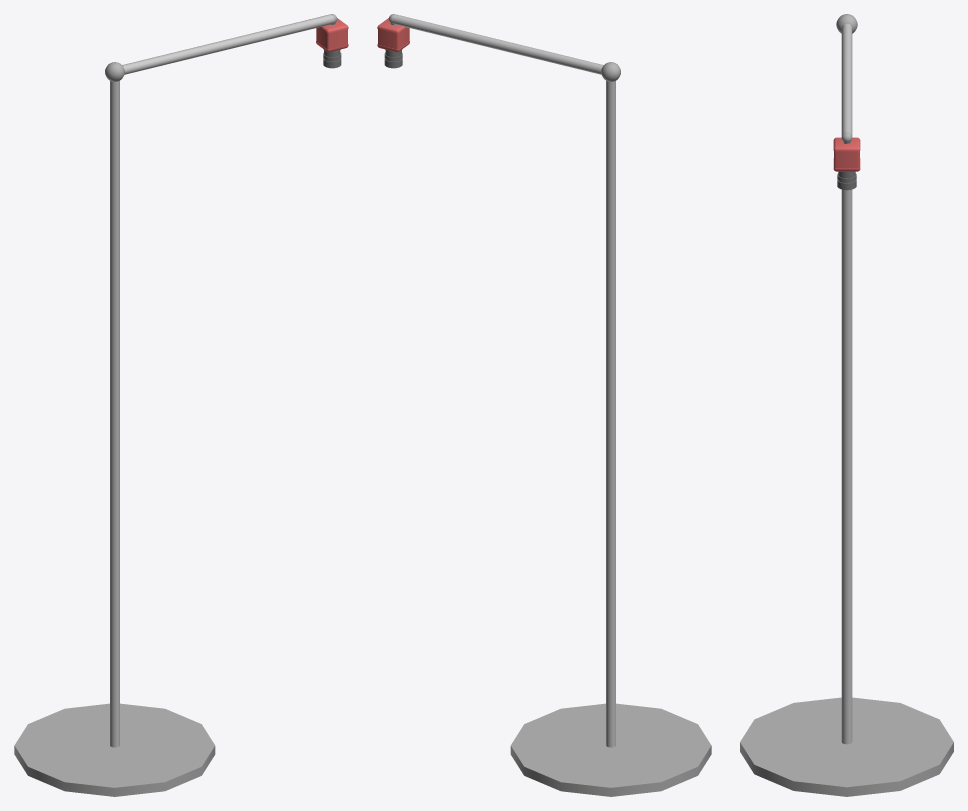
File: Industrial Camera.glb
3 views of the same model, side by side, from view 1: azimuth 30°, elevation 25°; view 2: azimuth 150°, elevation 25°; view 3: azimuth 270°, elevation 25° (orthographic). The views are drawn at different scales.
Visible parts, largest first — view 1: Mesh [02Tg], Mesh [02Rg], Mesh [02Ug], Mesh [02Wg]; view 2: Mesh [02Tg], Mesh [02Rg], Mesh [02Ug], Mesh [02Wg]; view 3: Mesh [02Tg], Mesh [02Rg], Mesh [02Ug], Mesh [02Wg].
Part boxes in pixels (left/top/right/bottom): Mesh [02Tg]: left=14, top=703, right=215, bottom=796; Mesh [02Rg]: left=110, top=81, right=119, bottom=747; Mesh [02Ug]: left=122, top=14, right=334, bottom=74; Mesh [02Wg]: left=316, top=18, right=348, bottom=52; Mesh [02Tg]: left=510, top=703, right=711, bottom=796; Mesh [02Rg]: left=606, top=81, right=615, bottom=747; Mesh [02Ug]: left=391, top=14, right=603, bottom=74; Mesh [02Wg]: left=377, top=18, right=409, bottom=52; Mesh [02Tg]: left=740, top=697, right=953, bottom=796; Mesh [02Rg]: left=841, top=189, right=852, bottom=744; Mesh [02Ug]: left=841, top=23, right=852, bottom=136; Mesh [02Wg]: left=833, top=137, right=860, bottom=171.
Bounding box in the file's own units: 0.725 × 1.52 × 0.4.
